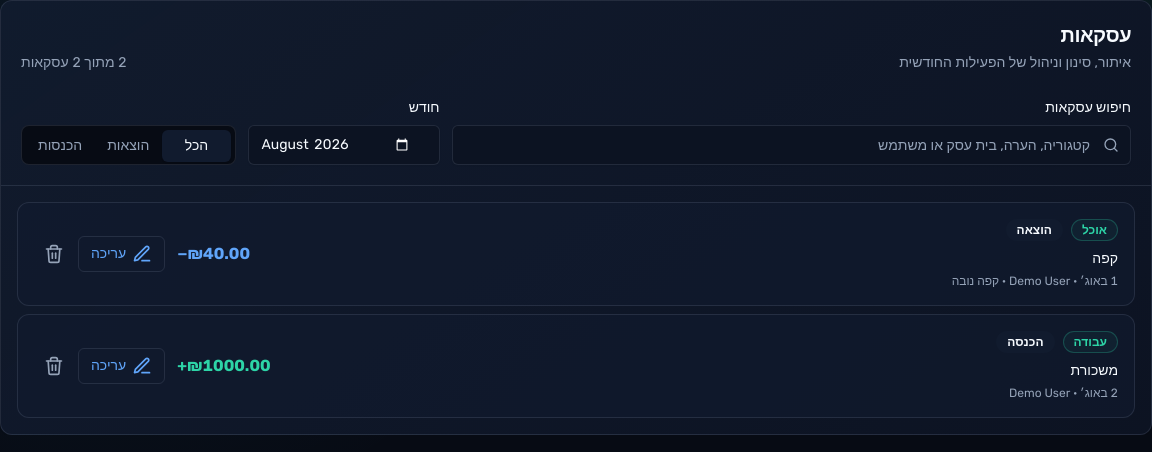
Test: filters transactions by income and expense
Click the radio button labelled "הכנסות" at (60, 146), box [26, 130, 94, 162]
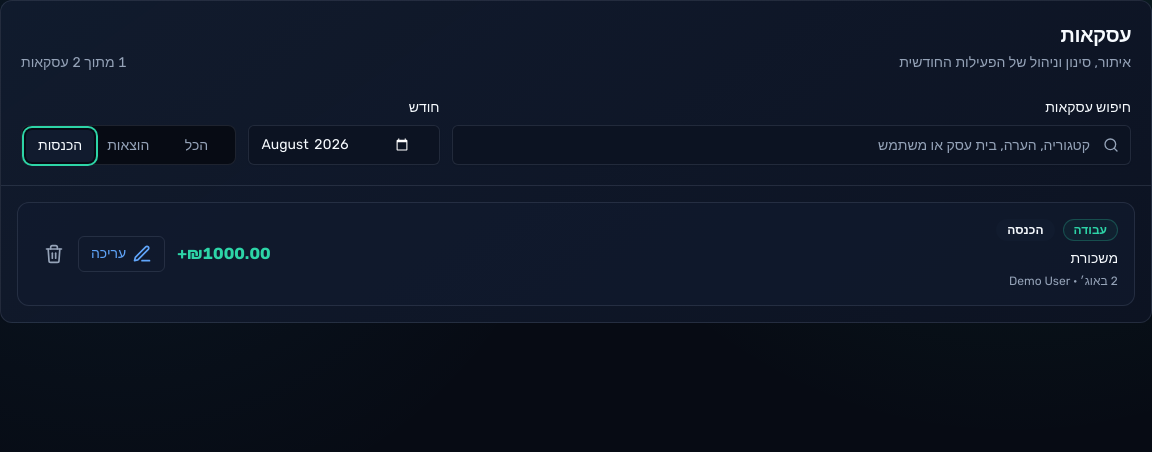
Expected: the text "משכורת" is shown, [1071, 250, 1118, 267]
Expected: the text "קפה" is gone
